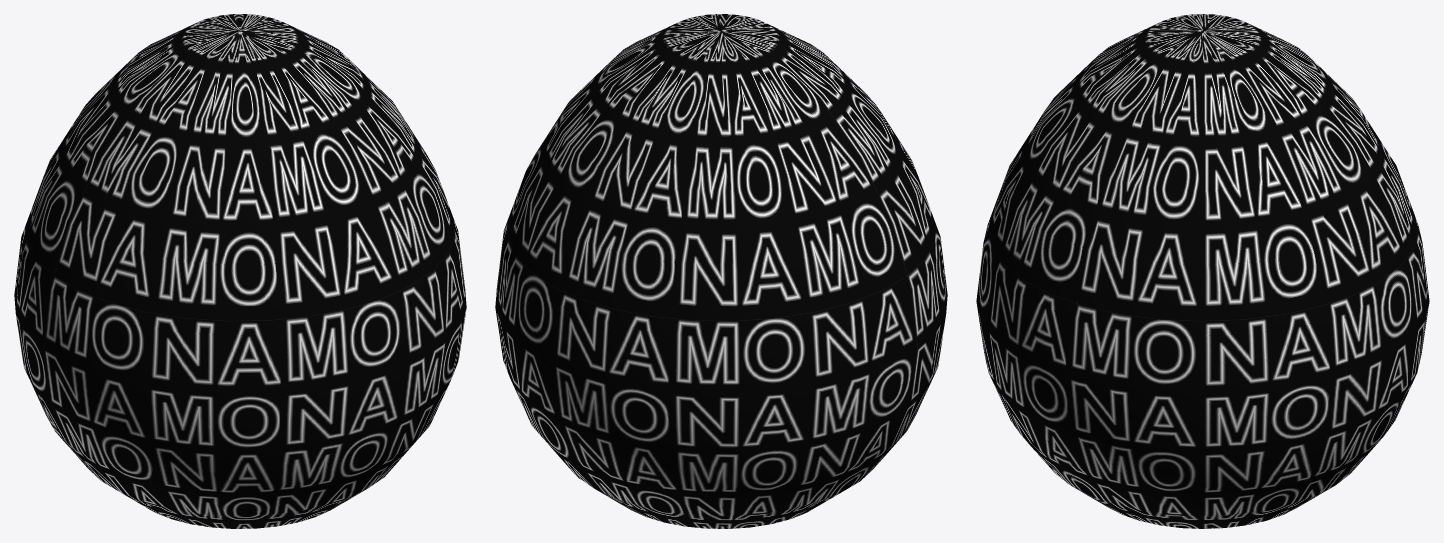
File: mona_egg.glb
3 renders of one model, left to right at view 1: azimuth 30°, elevation 25°; view 2: azimuth 150°, elevation 25°; view 3: azimuth 270°, elevation 25°, orthographic.
Parts seen in each view (by area): view 1: EGG; view 2: EGG; view 3: EGG.
Part boxes in pixels (left/top/right/bottom): EGG: left=14, top=14, right=466, bottom=528; EGG: left=495, top=14, right=947, bottom=528; EGG: left=976, top=14, right=1429, bottom=528.
Bounding box in the file's own units: 0.1991 × 0.2312 × 0.1991.
Materials: 1 (1 with a texture image).
